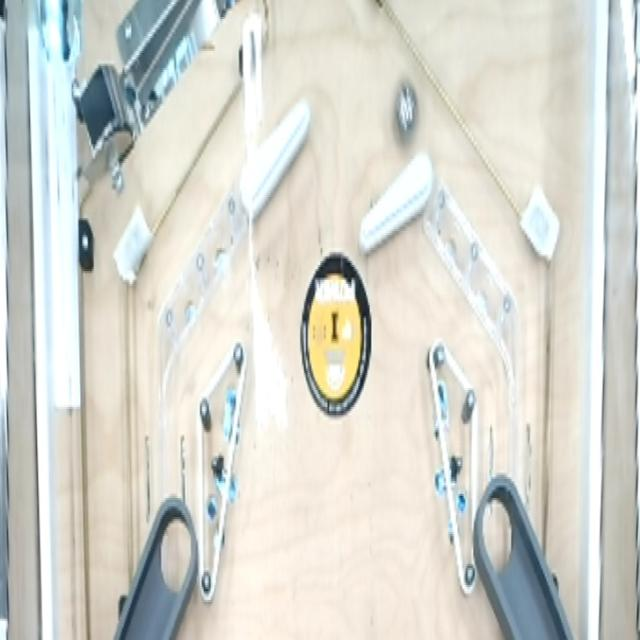ball: (390, 76, 420, 140)
flipper-left: (357, 142, 439, 264)
flipper-right: (237, 87, 314, 221)
